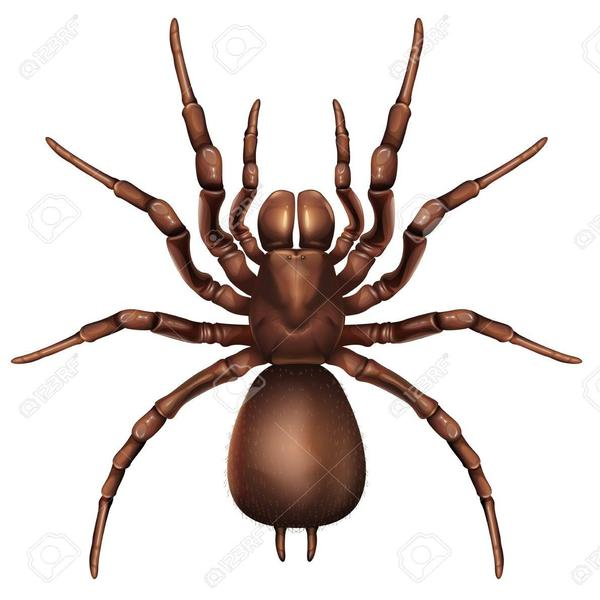Funnel Web Spider: (53, 35, 547, 560)
